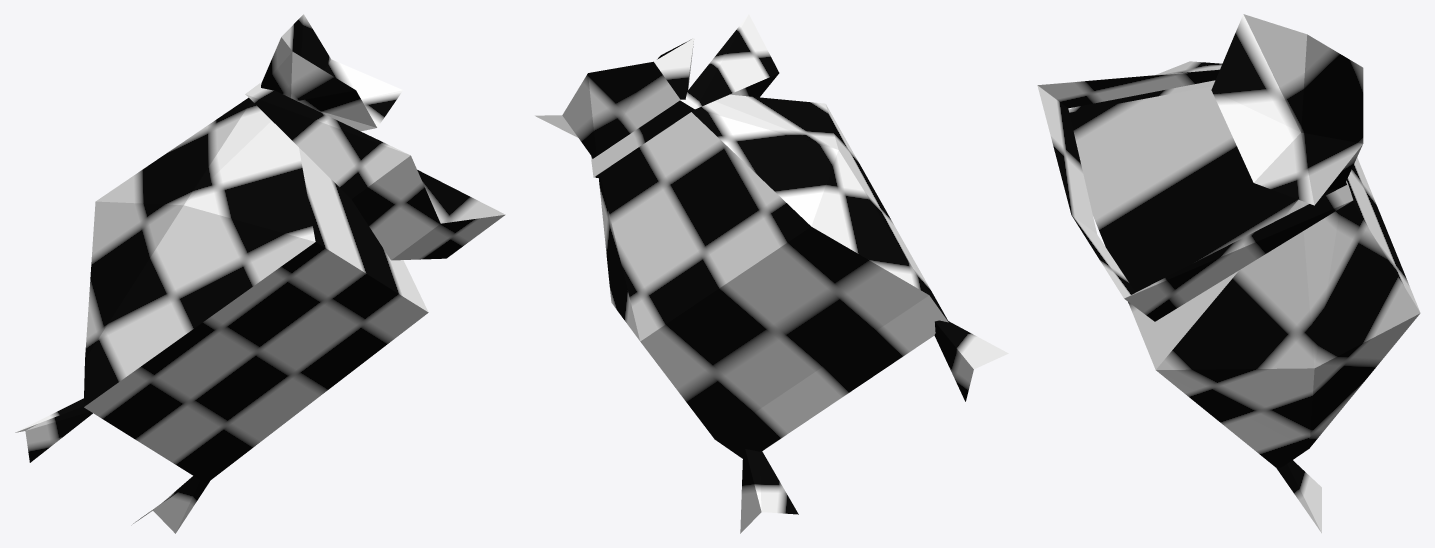
File: initqu37.dae
3 renders of one model, left to right at view 1: azimuth 30°, elevation 25°; view 2: azimuth 150°, elevation 25°; view 3: azimuth 270°, elevation 25°, orthographic. The views are drawn at different scales.
Parts seen in each view (by area): view 1: item; view 2: item; view 3: item.
Boxes of the visible parts, bbox=[...] form: item: bbox=[15, 14, 505, 533]; item: bbox=[535, 14, 1008, 533]; item: bbox=[1037, 14, 1420, 533].
Bounding box in the file's own units: 1.55 × 0.9376 × 1.53.
Materials: 1 (1 with a texture image).
